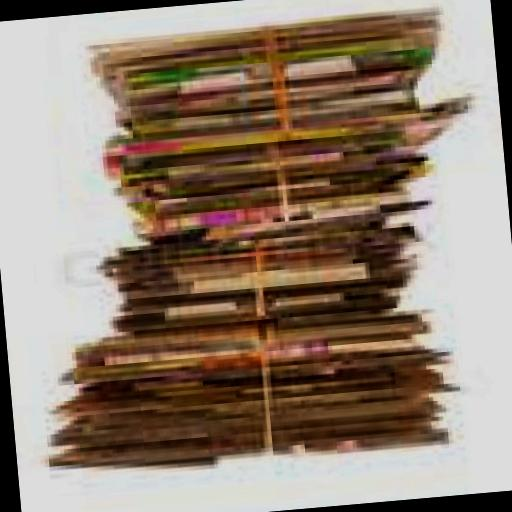cardboard: (10, 10, 494, 488), (55, 226, 430, 392), (89, 18, 466, 174), (43, 355, 458, 479), (108, 146, 429, 280)
